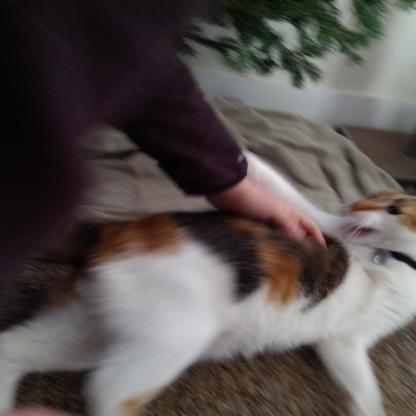Target: (0, 189, 416, 416)
